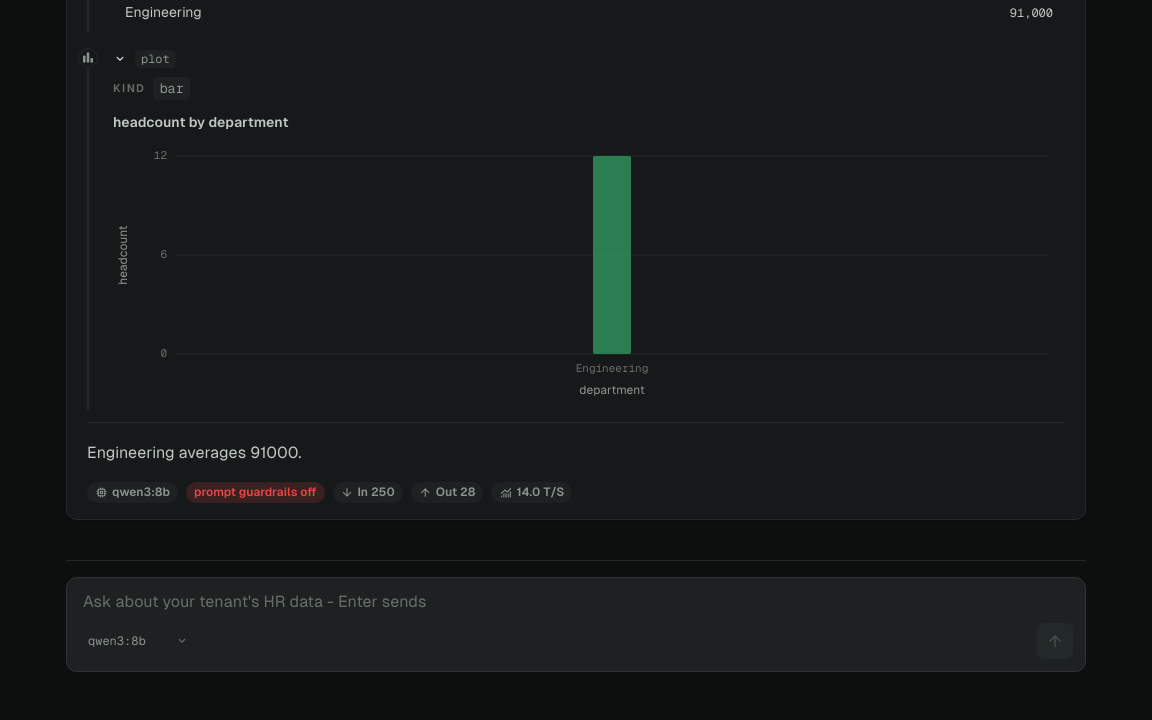
Test: the chat view › counts the turns the server already replayed towards the window
(page scrolled)
expect the dropdown shows "qwen3:8b": met, box [79,628,197,654]
Type "average salary per department" into the text box named "Question".
click(576, 602); type("average salary per department")  # box [79,590,1073,615]
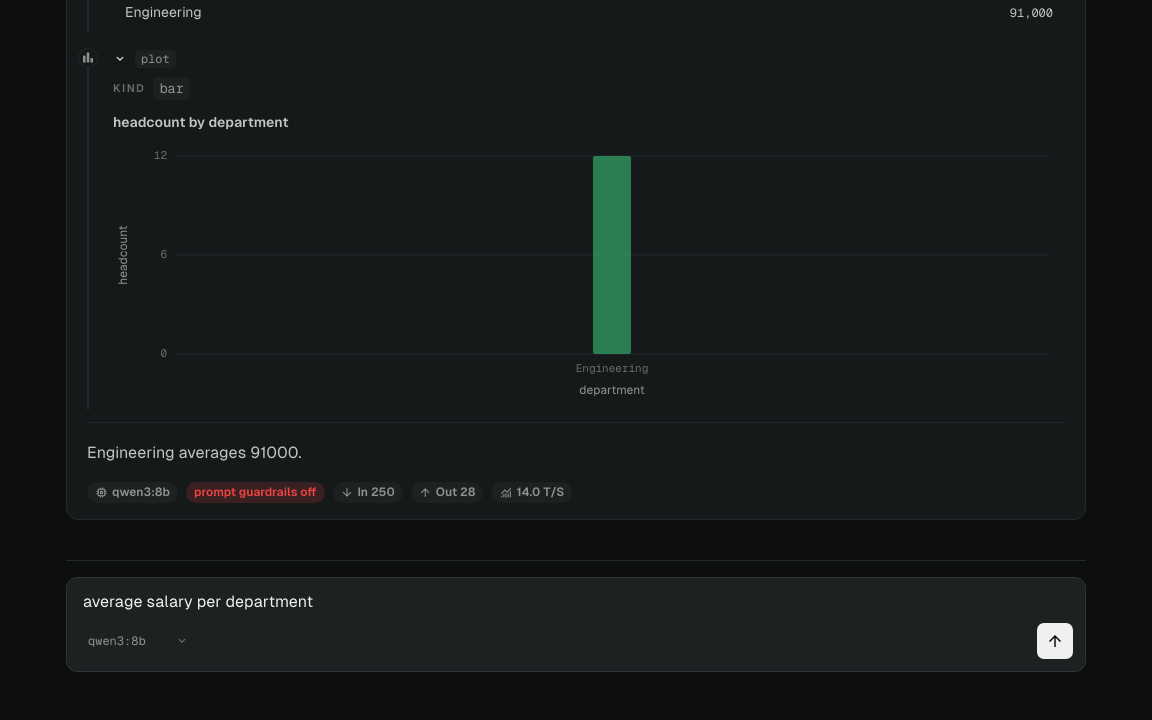
Press Enter in the text box named "Question", box [79,590,1073,615]
(page scrolled)
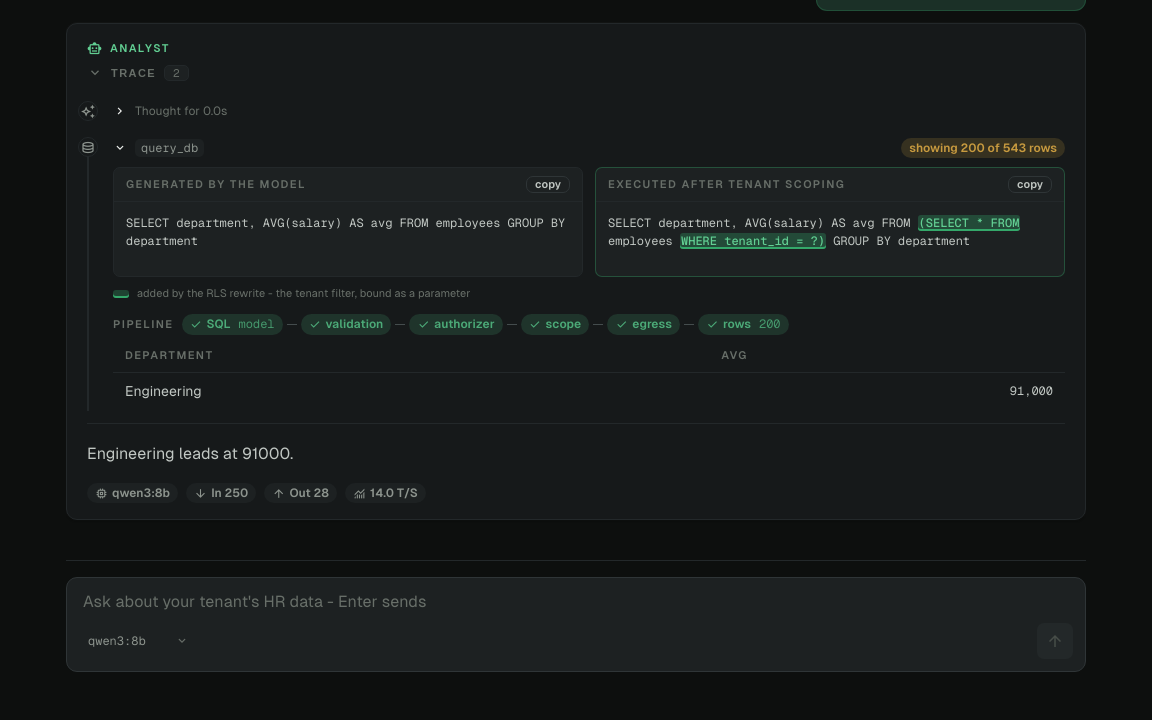
Type "one turn too many" into the text box named "Question".
click(576, 603); type("one turn too many")  # box [79,590,1073,615]
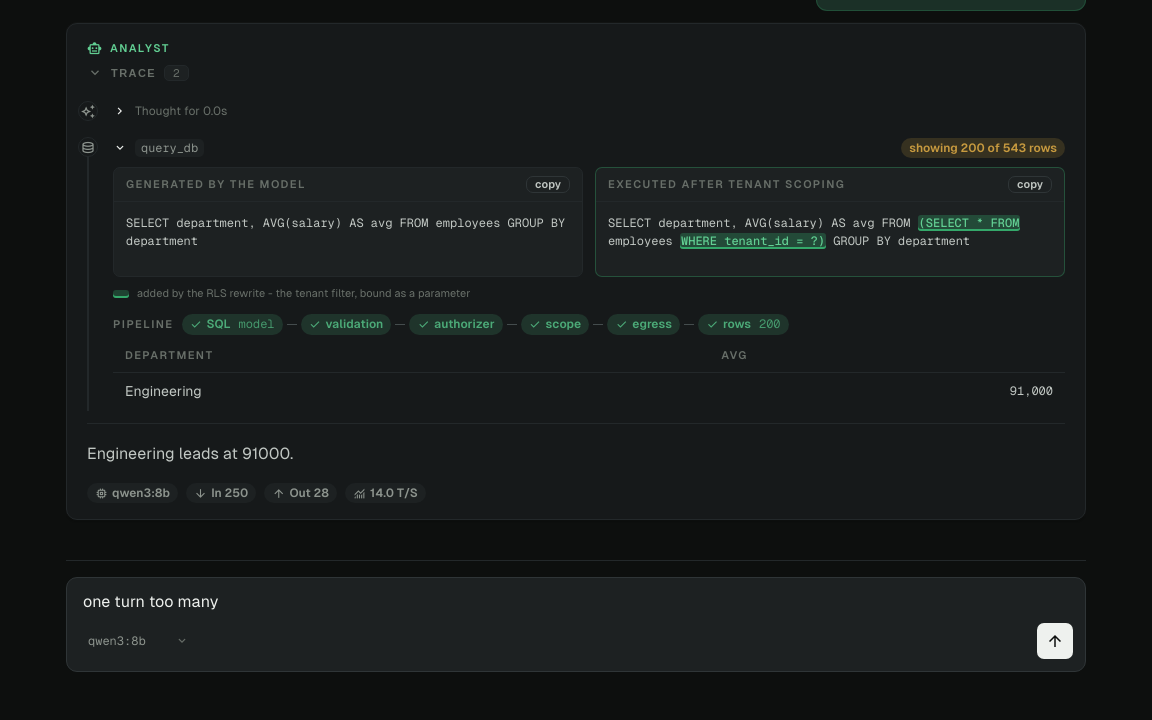
Press Enter in the text box named "Question", box [79,590,1073,615]
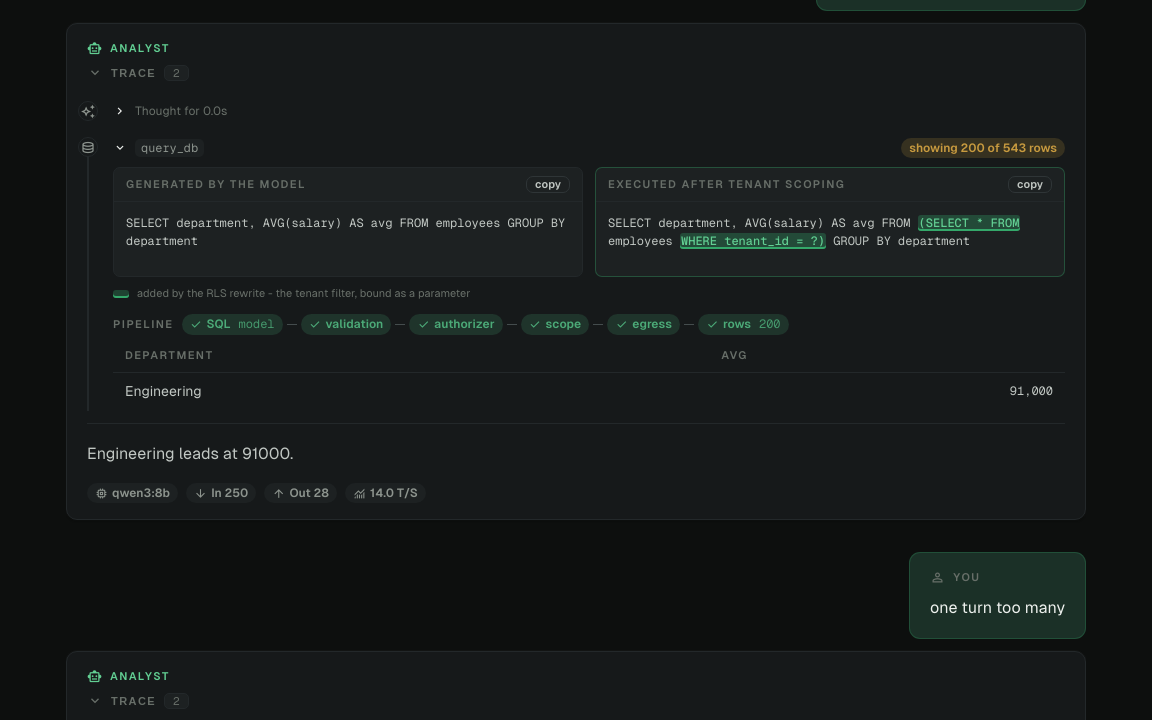
expect the text "one turn too many" is shown: met, box [930,594,1065,622]
